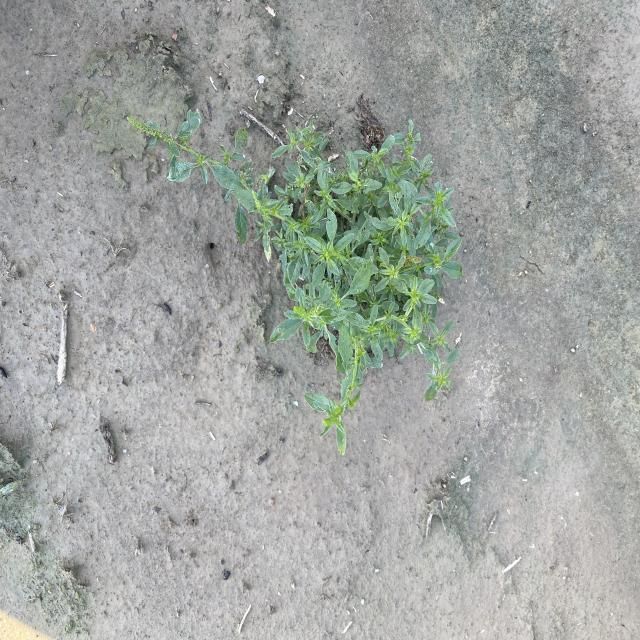Waterhemp: (126, 107, 466, 457)
